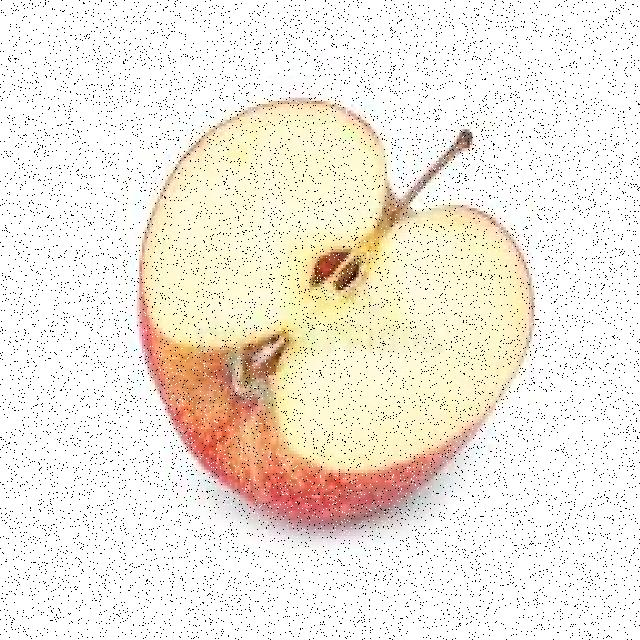Apple: (138, 91, 536, 518)
